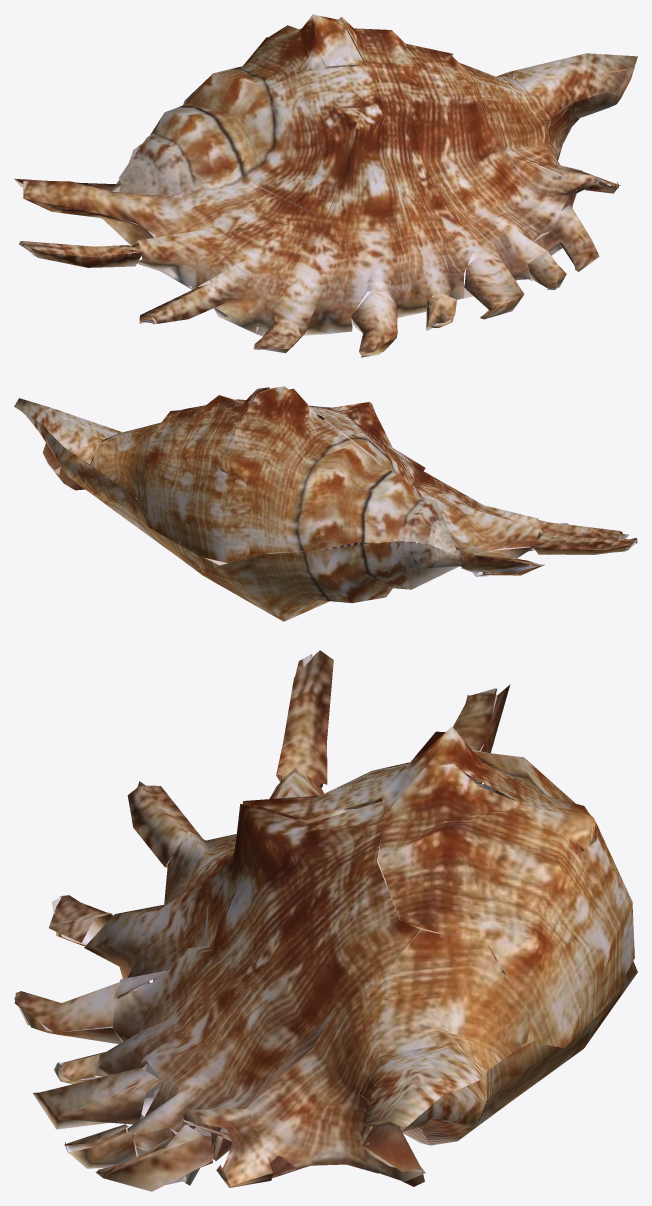
Rendered from lambis_shell_1k.gltf.lod.glb.
3 views of the same model, one above another, from view 1: azimuth 30°, elevation 25°; view 2: azimuth 150°, elevation 25°; view 3: azimuth 270°, elevation 25° (orthographic). The views are drawn at different scales.
Parts seen in each view (by area): view 1: lambis_shell; view 2: lambis_shell; view 3: lambis_shell.
Part boxes in pixels (left/top/right/bottom): lambis_shell: left=14, top=14, right=637, bottom=357; lambis_shell: left=14, top=386, right=637, bottom=621; lambis_shell: left=14, top=650, right=637, bottom=1191.
Size of the model in its own units: 0.1386 by 0.0471 by 0.0748.
1 material, 1 textured.
